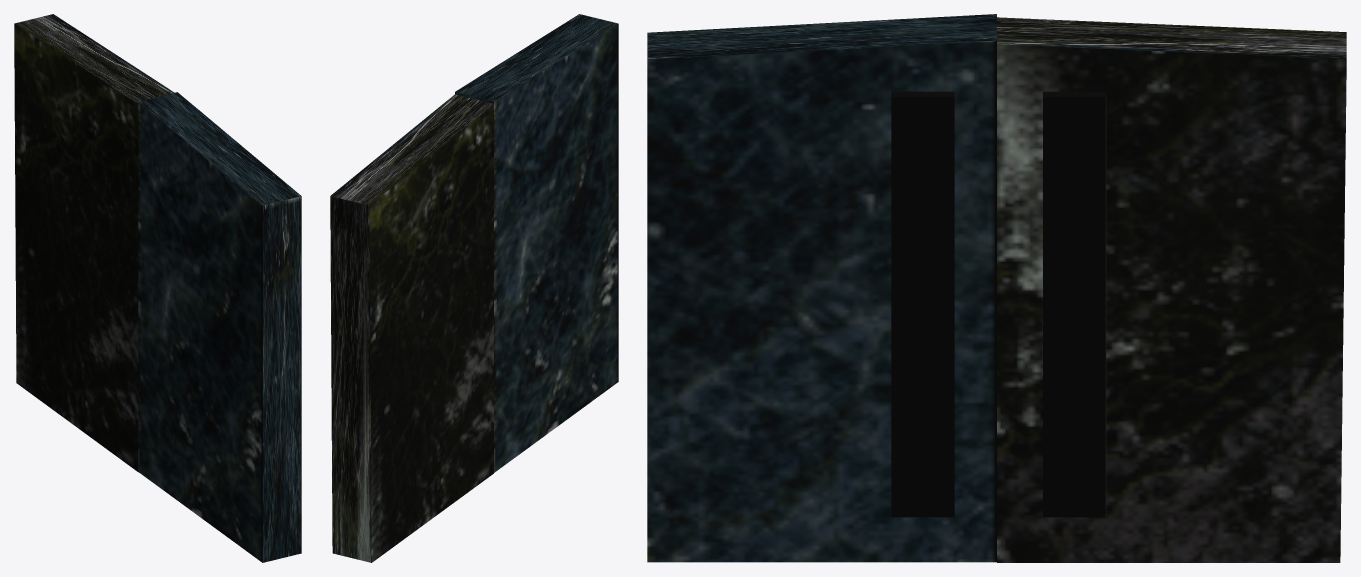
Rendered from door.glb.
3 renders of one model, left to right at view 1: azimuth 30°, elevation 25°; view 2: azimuth 150°, elevation 25°; view 3: azimuth 270°, elevation 25°, orthographic. The views are drawn at different scales.
Parts seen in each view (by area): view 1: Cube, Cube.001; view 2: Cube.001, Cube; view 3: Cube, Cube.001, Cube.003, Cube.002.
Boxes of the visible parts, x1,y1,x2,y2 form: Cube: (138, 92, 301, 562); Cube.001: (14, 14, 174, 472); Cube.001: (330, 94, 493, 562); Cube: (455, 14, 618, 472); Cube: (647, 14, 996, 562); Cube.001: (997, 17, 1346, 562); Cube.003: (891, 91, 954, 517); Cube.002: (1043, 91, 1106, 517).
Bounding box in the file's own units: 2.41 × 18.12 × 22.
Materials: 1 (1 with a texture image).
